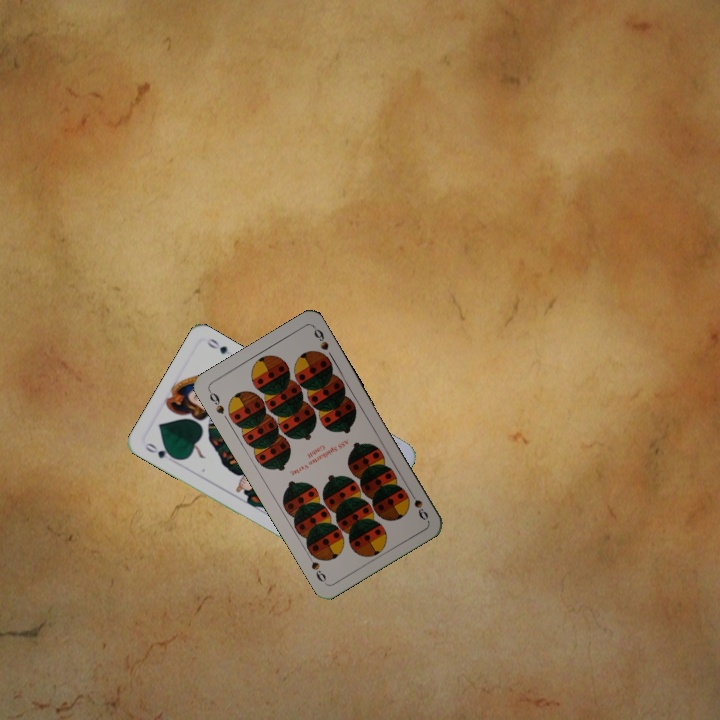GO: (141, 439, 179, 462)
S9: (405, 486, 431, 523), (204, 386, 227, 416)
